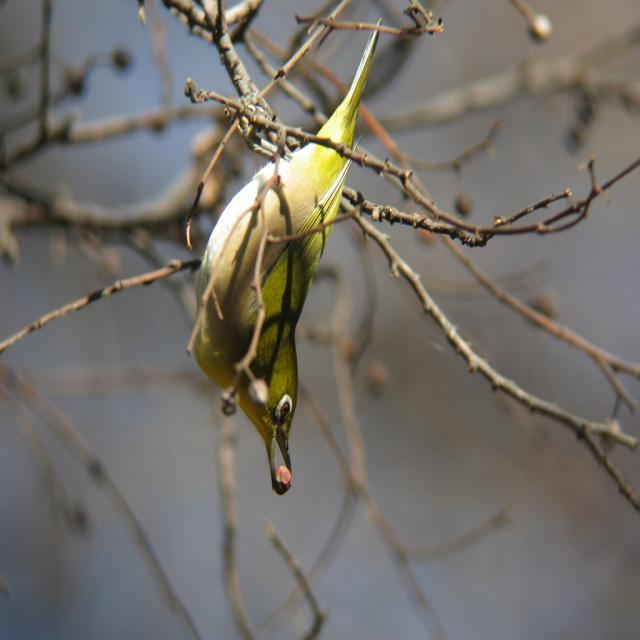bird: (179, 19, 394, 486)
